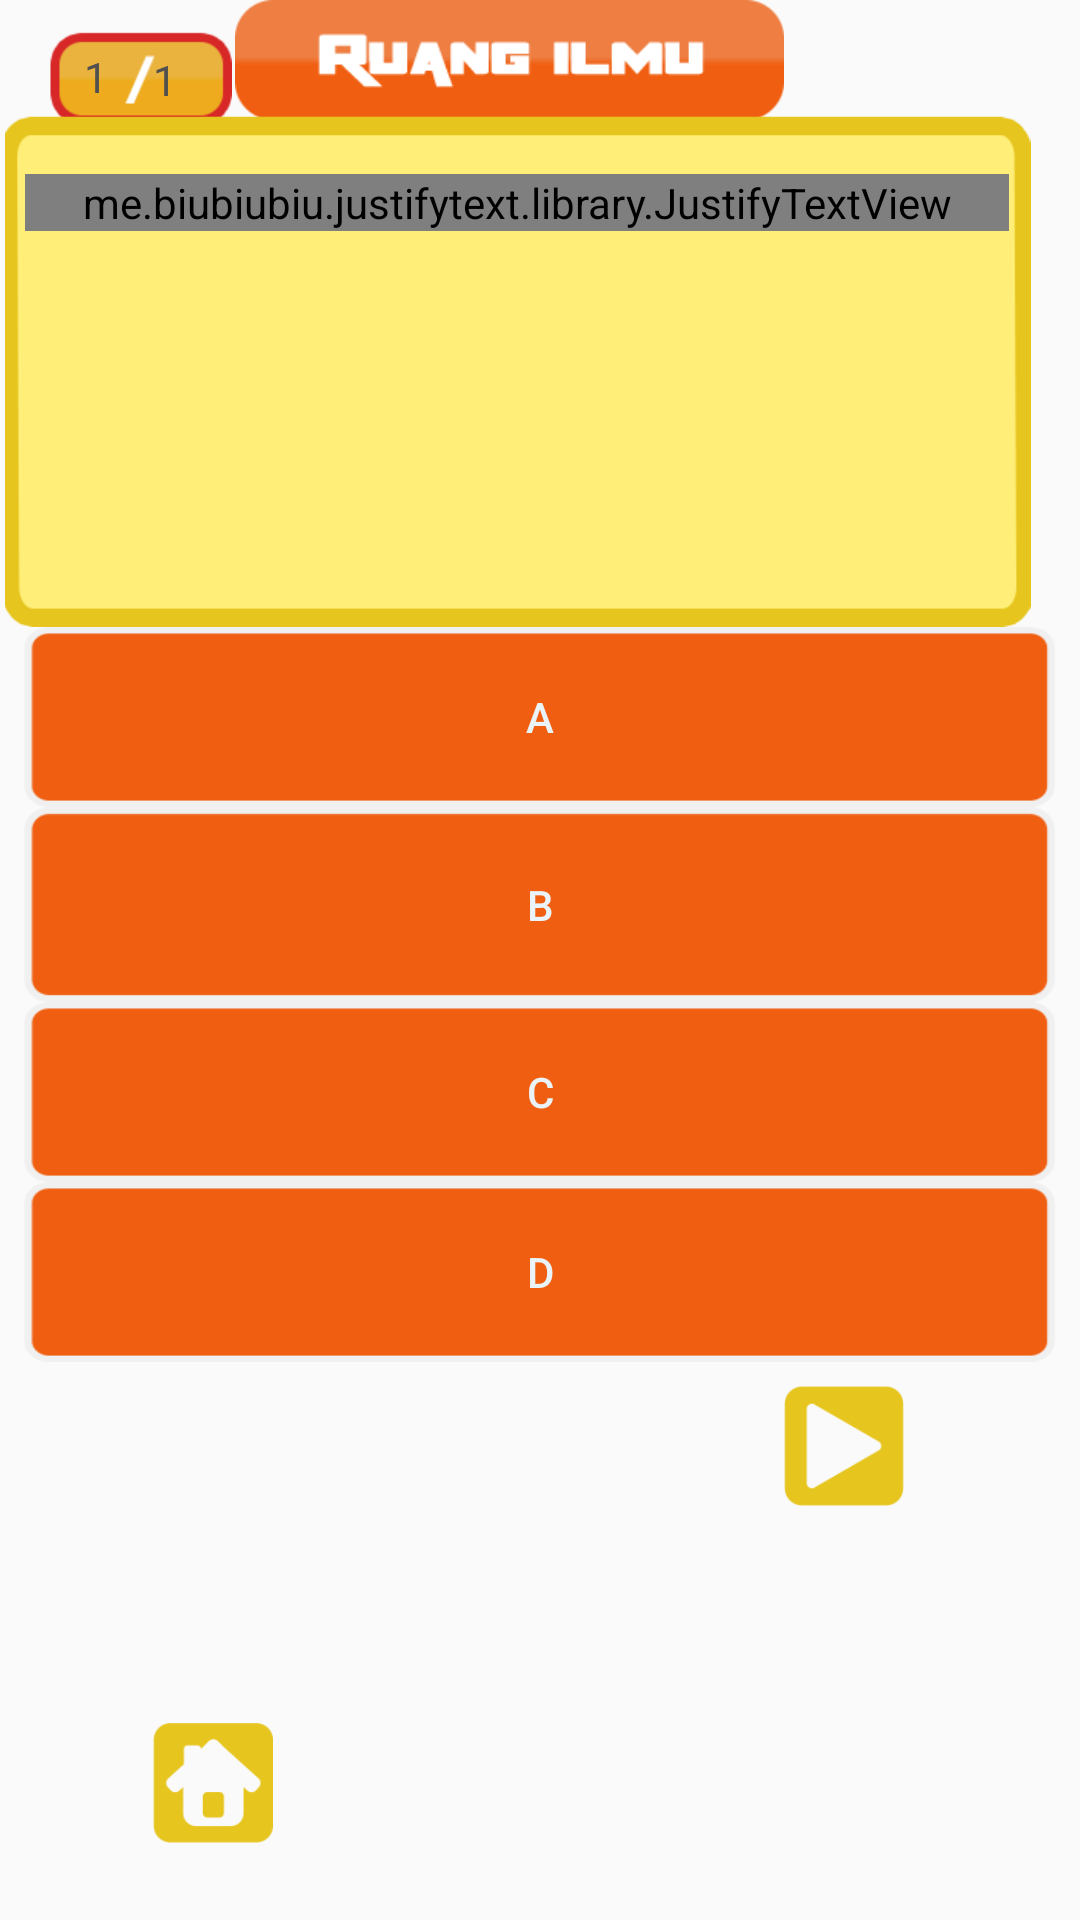

Point at icon controls on the screen. Image size 1080*1920, points as [x,y].
lanjut: [844,1446]
rumah: [213,1783]
